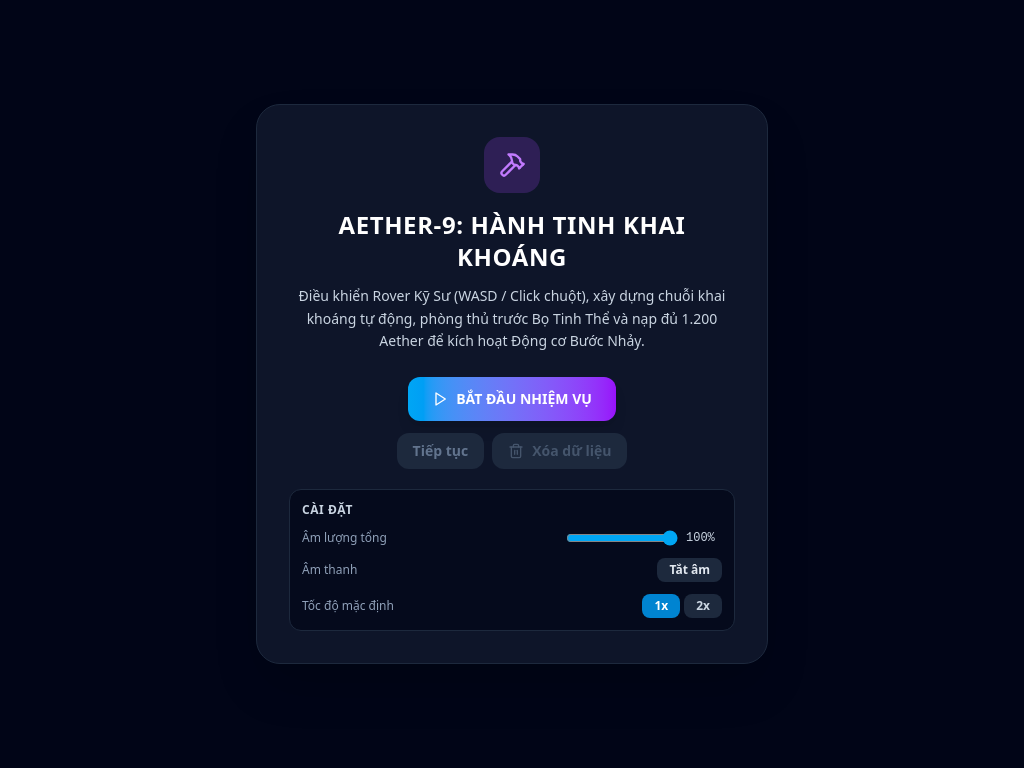
Test: AetherGame: tech panel purchase states › enables purchases when affordable and buying deducts the scaled cost
Later steps or results of the test are not shown.
Click the button "BẮT ĐẦU NHIỆM VỤ": coordinates (512, 399) x1=408 y1=377 x2=616 y2=421
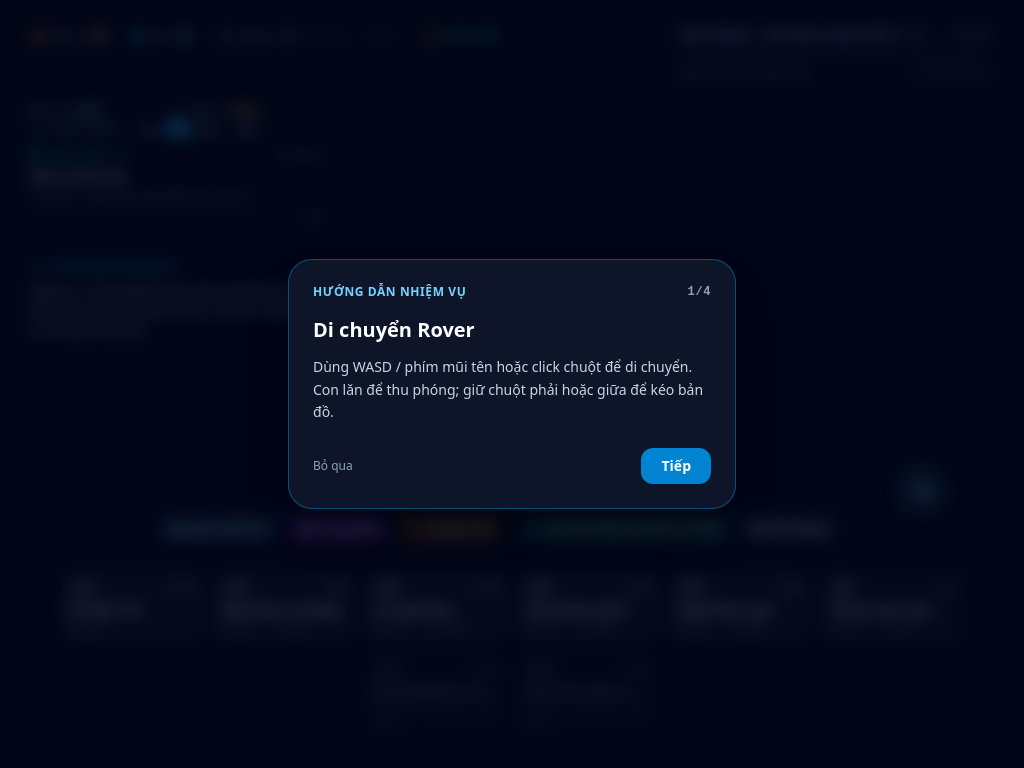
Press t
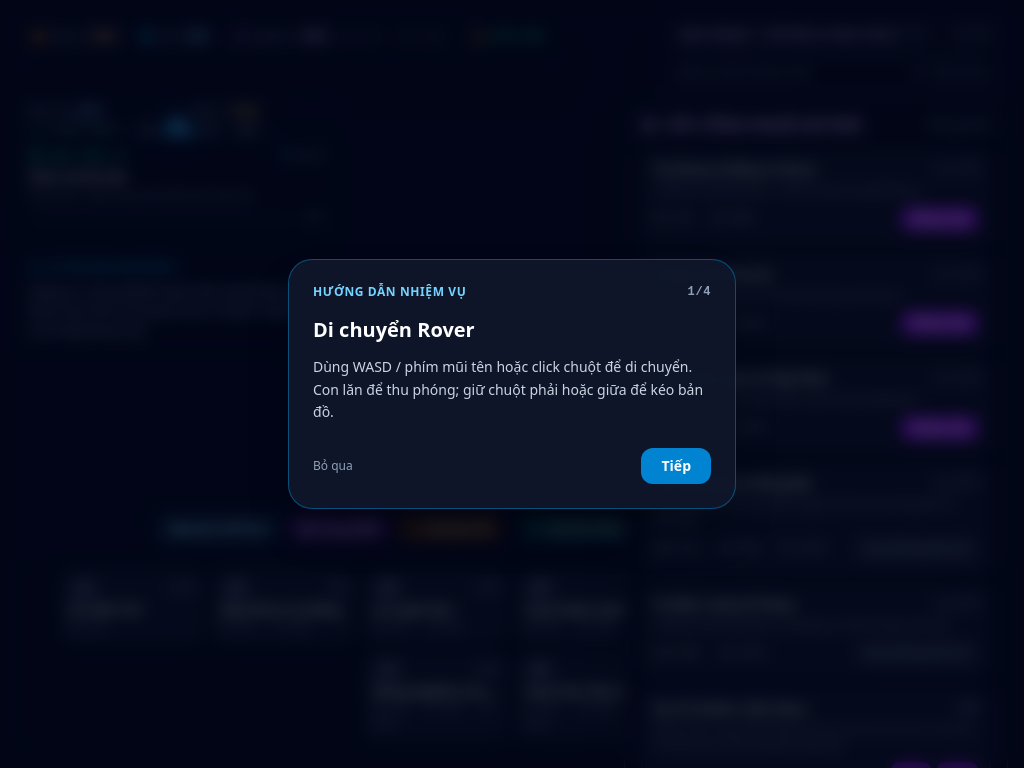
Expected: the number of buttons "Nâng cấp" is 3, x1=901 y1=206 x2=978 y2=230; x1=901 y1=311 x2=978 y2=335; x1=901 y1=416 x2=978 y2=440
